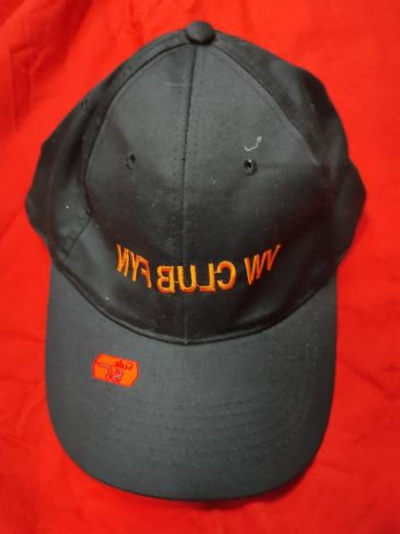Hat: (9, 2, 390, 517), (400, 8, 400, 523)
